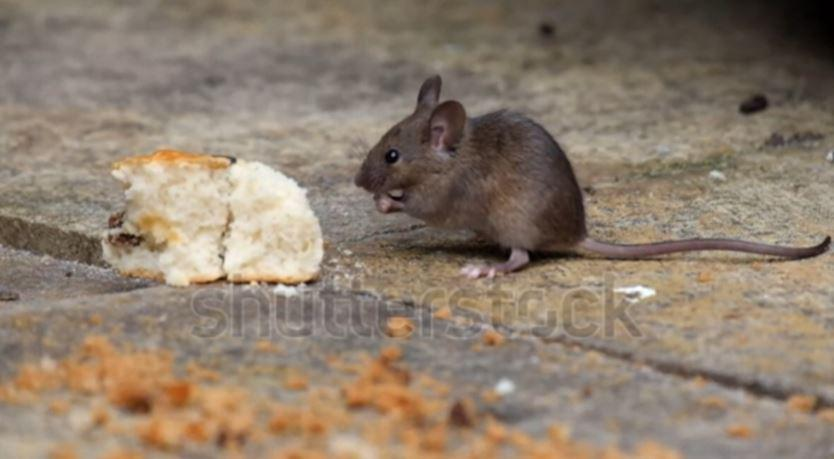rat: (354, 74, 832, 282)
